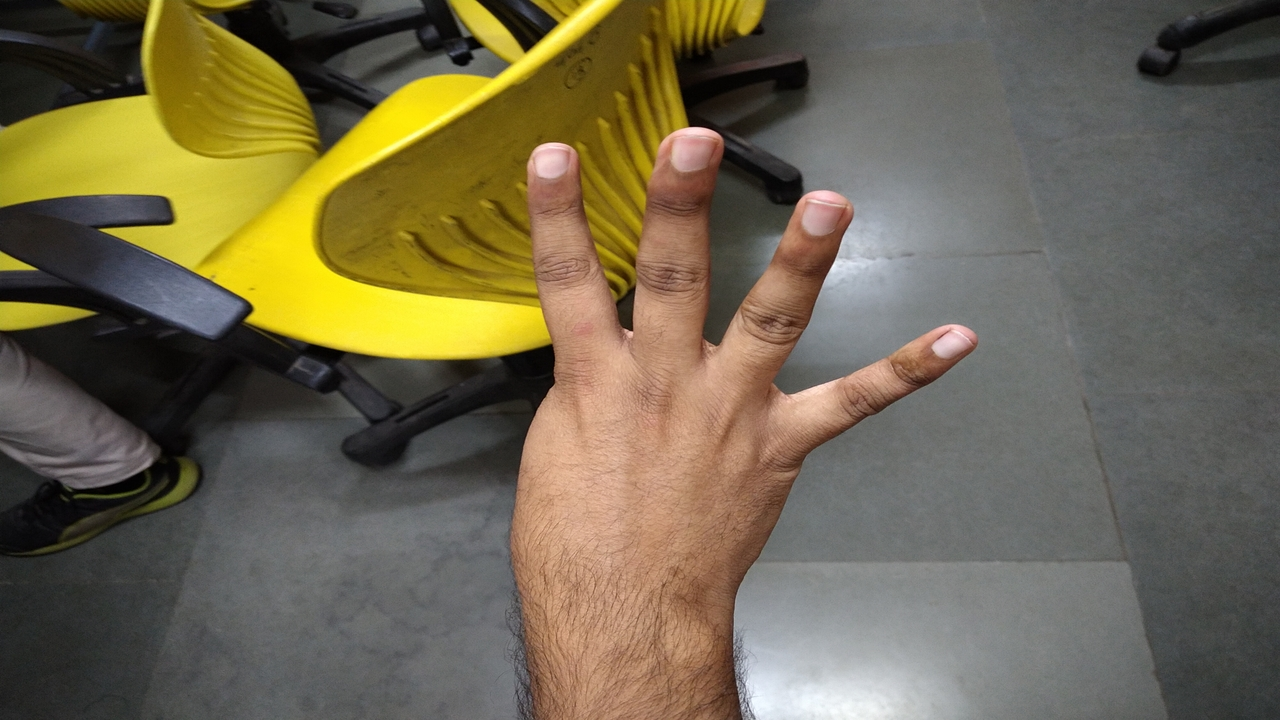fingertip: (652, 116, 726, 186), (516, 134, 586, 198), (790, 178, 860, 242), (916, 314, 990, 368)
